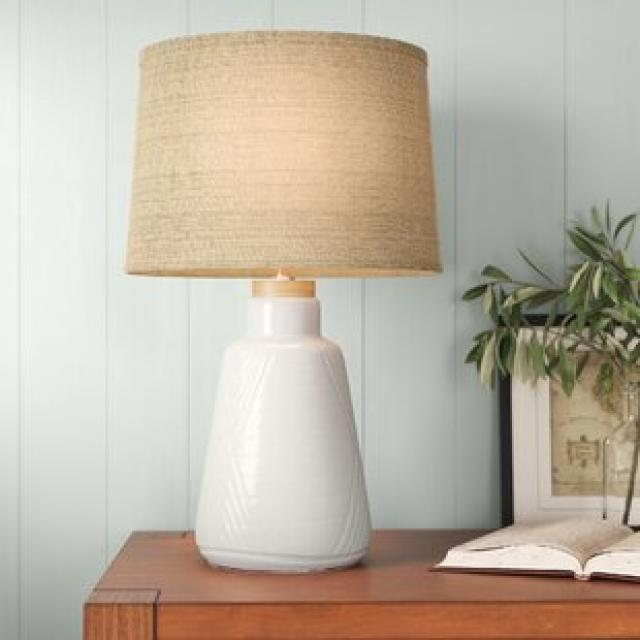lamp: (114, 16, 466, 588)
